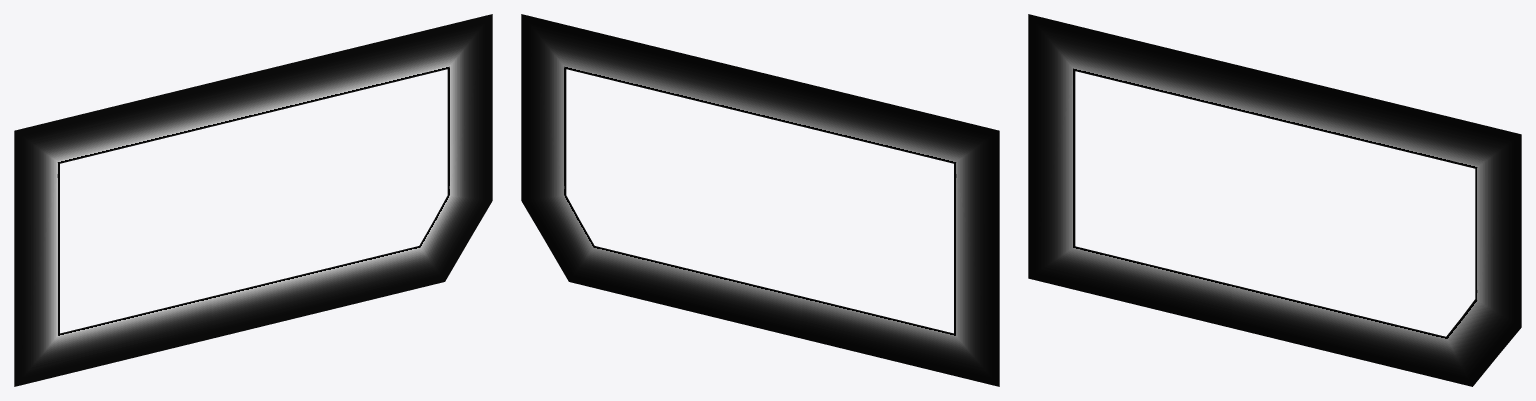
The model's file is liubian_chang03_zhuxianrenwu.FBX.
3 views of the same model, side by side, from view 1: azimuth 30°, elevation 25°; view 2: azimuth 150°, elevation 25°; view 3: azimuth 330°, elevation 25° (orthographic). The views are drawn at different scales.
Visible parts, largest first — view 1: Plane002; view 2: Plane002; view 3: Plane002.
Part boxes in pixels (x1,y1,x2,y2): Plane002: (14,14,492,386); Plane002: (521,14,999,386); Plane002: (1028,14,1521,386).
Size of the model in its own units: 161 by 82.68 by 3.86e-06.
Materials: 1 (1 with a texture image).
